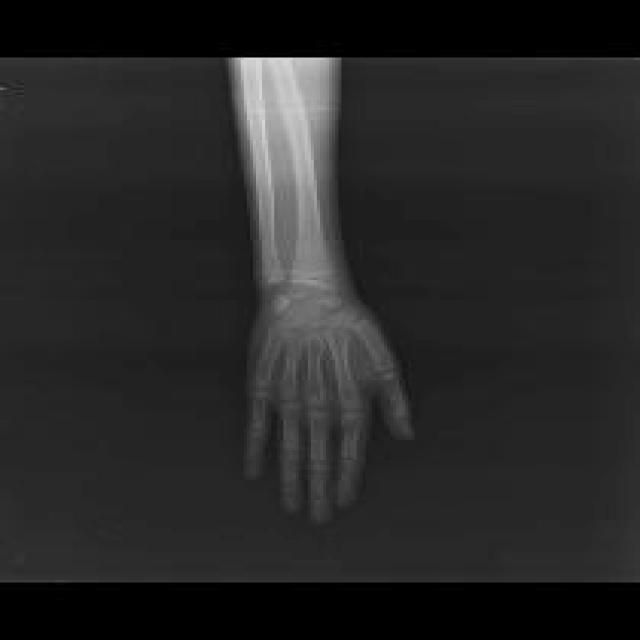normal: (237, 56, 412, 523)
